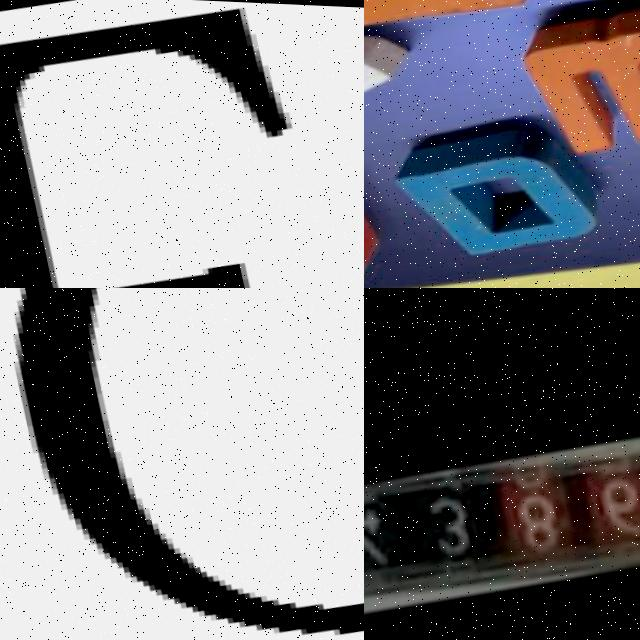3: (417, 489, 472, 564)
4: (364, 501, 392, 572)
6: (592, 470, 640, 540)
8: (509, 487, 563, 556)
C: (9, 288, 364, 630)
D: (392, 116, 603, 268)
E: (0, 3, 281, 288)
W: (507, 0, 640, 164)
